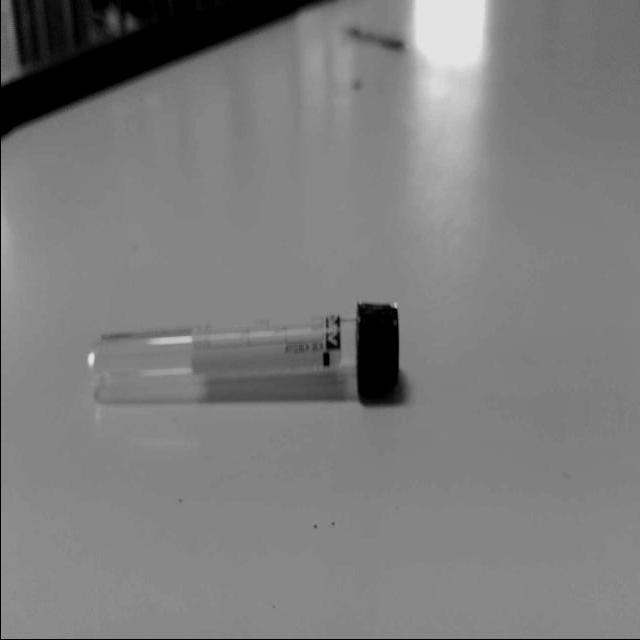Infectious: (87, 302, 402, 409)
